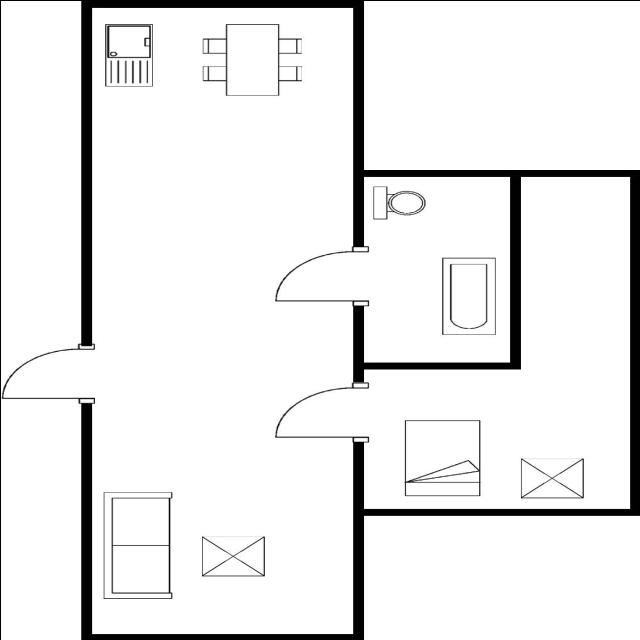bed: (401, 416, 485, 499)
coffee_table: (512, 453, 588, 501), (196, 532, 272, 578)
dining_table: (196, 18, 312, 98)
large_sink: (368, 184, 432, 224)
large_sofa: (99, 488, 180, 602)
sink: (98, 18, 162, 90)
tub: (430, 252, 506, 338)
